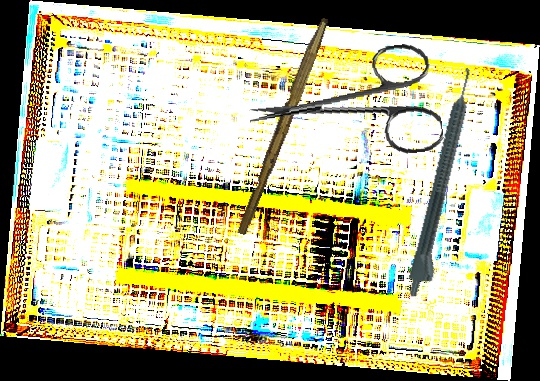Handpiece: (404, 66, 487, 302)
Iris Scissors: (243, 40, 445, 173)
Scalpel Handle: (235, 14, 330, 238)
